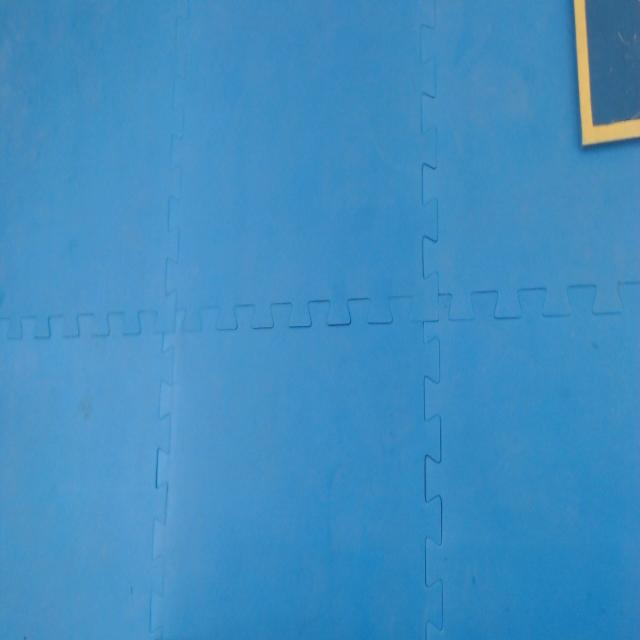base_pouso: (576, 0, 640, 151)
